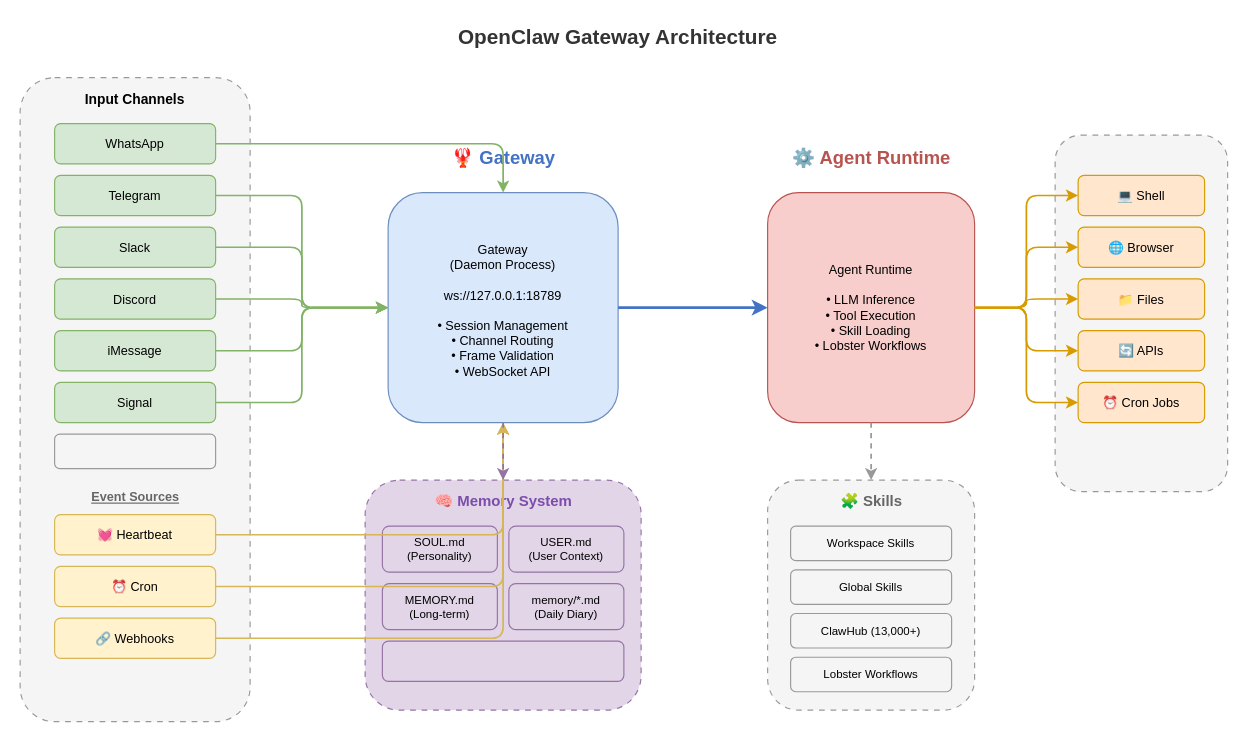
The diagram is 1248 pixels wide and 742 high, and some of its shapes have lost their labels. The box of each missing label's shape, as (x1, y1, x2, y2) in pixels:
+ 16 more channels...: (53, 433, 216, 469)
Actions: (1054, 134, 1228, 492)
sessions/ (JSONL): (381, 640, 624, 681)
